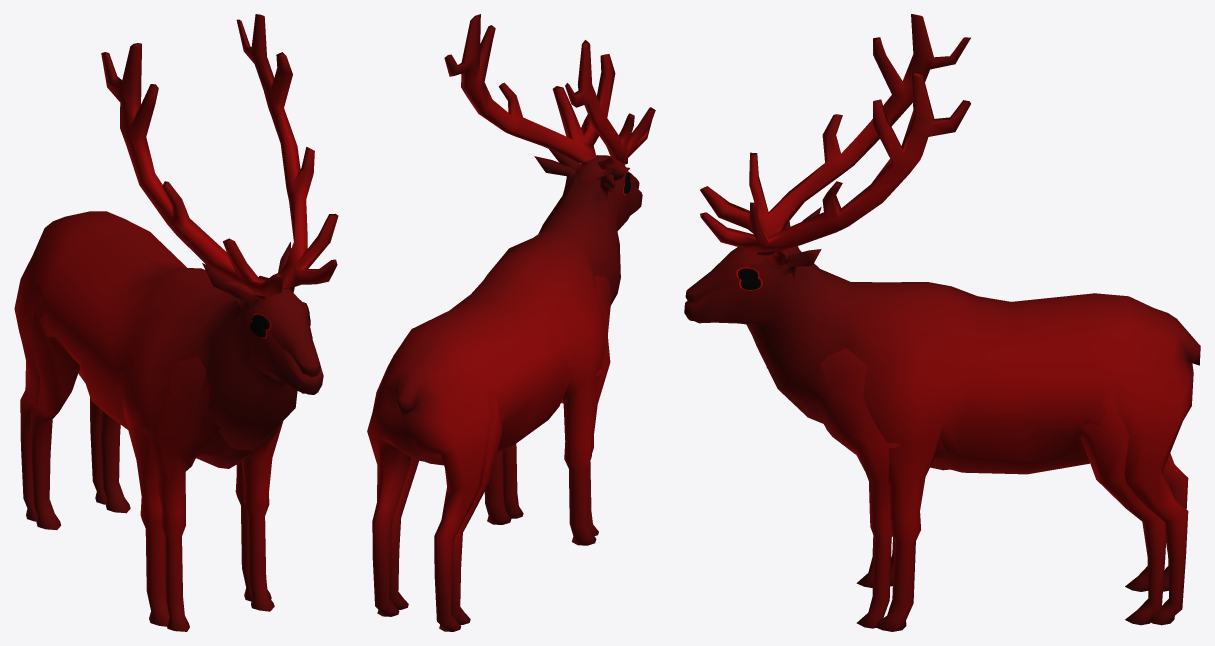
File: Animals_RockyMountainElk.fbx
The picture shows the model from 3 angles, left to right: view 1: azimuth 30°, elevation 25°; view 2: azimuth 150°, elevation 25°; view 3: azimuth 270°, elevation 25°; orthographic projection. The views are drawn at different scales.
Parts seen in each view (by area): view 1: alt608, alt609; view 2: alt608, alt609; view 3: alt608, alt609.
Boxes of the visible parts, bbox=[...] form: alt608: bbox=[14, 14, 338, 626]; alt609: bbox=[29, 276, 319, 631]; alt608: bbox=[367, 14, 655, 631]; alt609: bbox=[389, 149, 639, 624]; alt608: bbox=[684, 14, 1200, 631]; alt609: bbox=[685, 221, 1165, 628].
Bounding box in the file's own units: 64.12 × 230 × 192.
